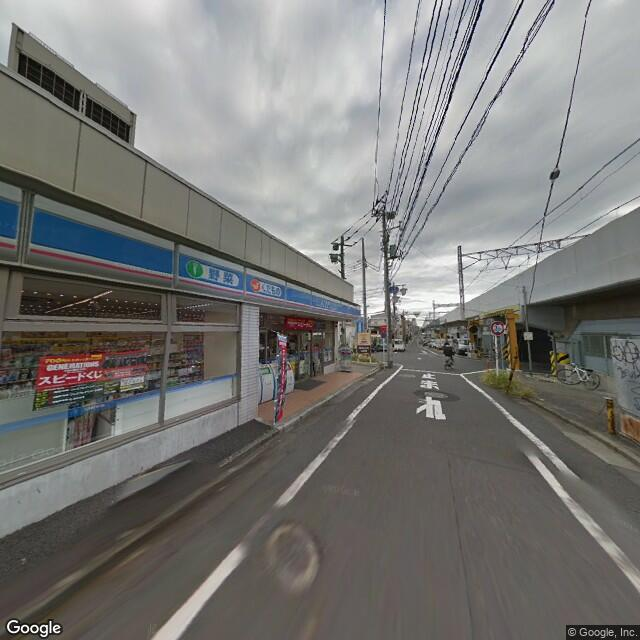lawson: (1, 176, 360, 327)
